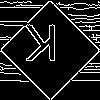K: (25, 25, 58, 70)
